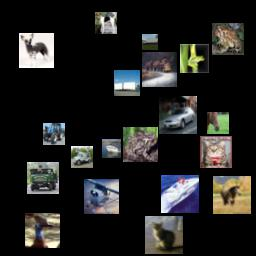airplane: (84, 179, 119, 214)
automobile: (159, 96, 197, 134)
bird: (25, 213, 60, 248)
cat: (145, 216, 183, 254), (200, 136, 232, 168)
dog: (19, 33, 54, 68), (95, 12, 117, 34)
frog: (123, 127, 158, 162), (212, 23, 244, 55), (180, 44, 209, 73)
ship: (161, 175, 199, 213), (102, 139, 121, 158)
truck: (142, 52, 177, 87), (27, 162, 59, 194), (114, 70, 140, 96), (71, 146, 93, 168), (43, 123, 65, 145), (142, 34, 158, 50)
